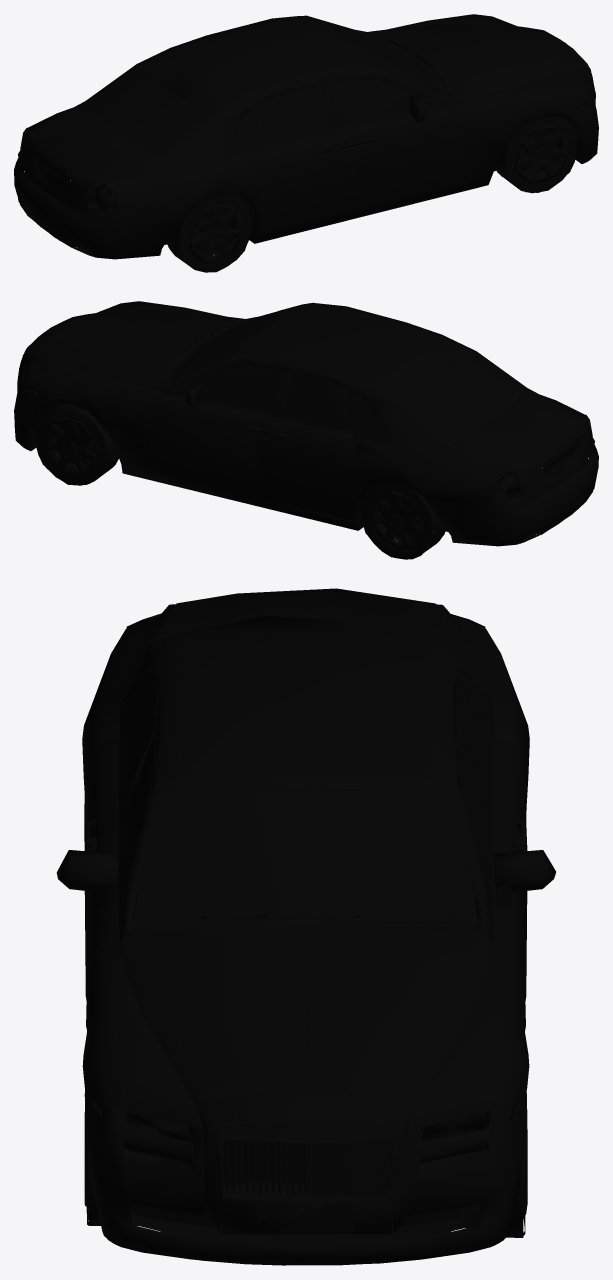
File: v_rolls_lod1.glb
The picture shows the model from 3 angles, top to bottom: view 1: azimuth 30°, elevation 25°; view 2: azimuth 150°, elevation 25°; view 3: azimuth 270°, elevation 25°; orthographic projection. The views are drawn at different scales.
Visible parts, largest first — view 1: v_rolls_lod1; view 2: v_rolls_lod1; view 3: v_rolls_lod1.
Part boxes in pixels (left/top/right/bottom): v_rolls_lod1: left=14, top=14, right=598, bottom=272; v_rolls_lod1: left=14, top=301, right=598, bottom=559; v_rolls_lod1: left=56, top=588, right=555, bottom=1265.
Bounding box in the file's own units: 5.4 × 1.57 × 2.18.
1 material, 1 textured.
